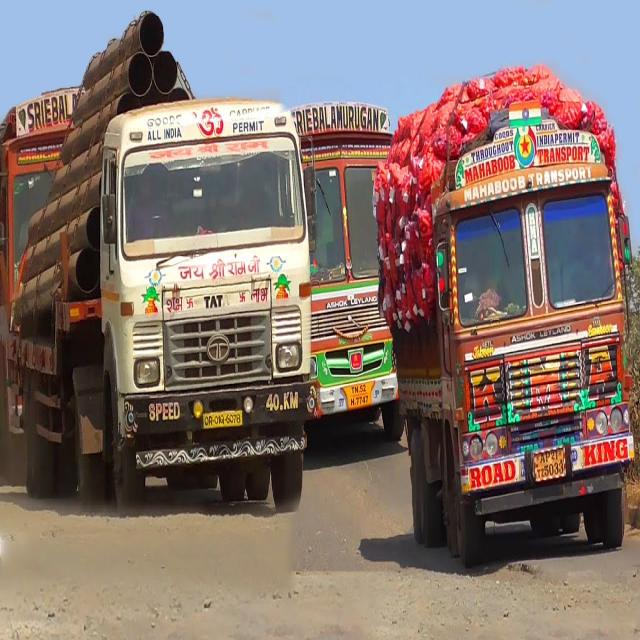Truck: (12, 102, 306, 508), (378, 91, 633, 545), (274, 97, 414, 444)
